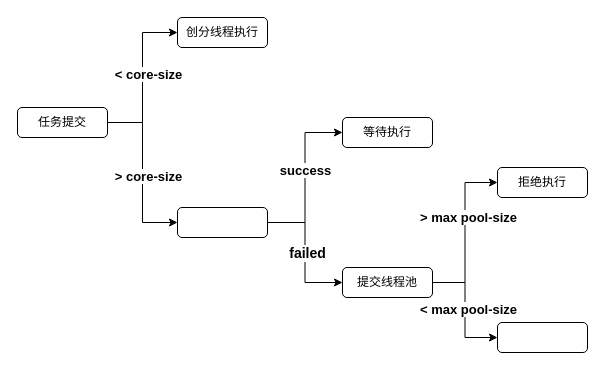
This 605x370 diagram has some shape labels left out. Here are the shapes that lost their labels. From the top down, the centre of each, then its label:
At pixel 222 222: "提交等待队列".
At pixel 542 337: "分配线程处理".
